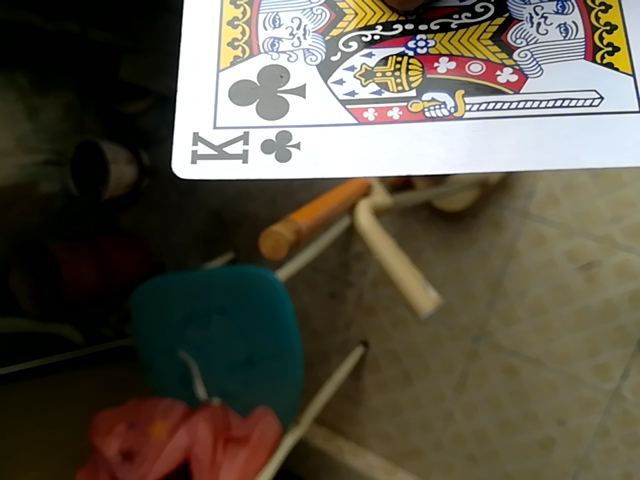mh k: (168, 0, 640, 180)
